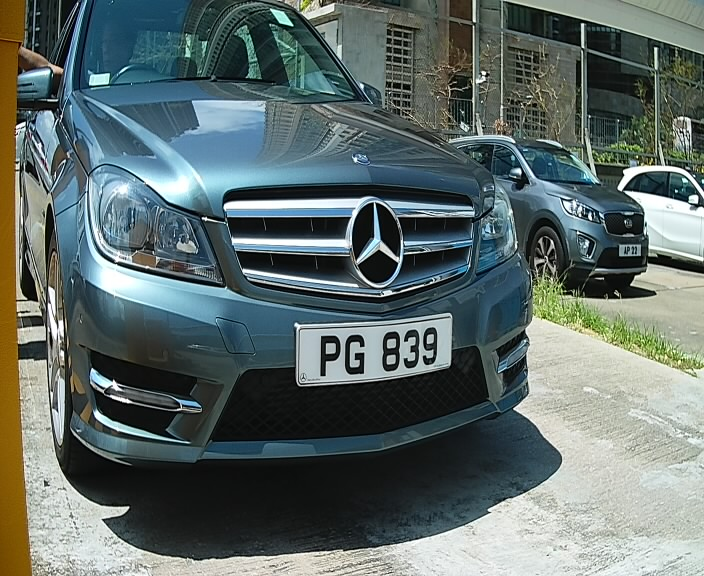Car: (12, 2, 543, 511)
License Plate: (290, 311, 460, 392)
